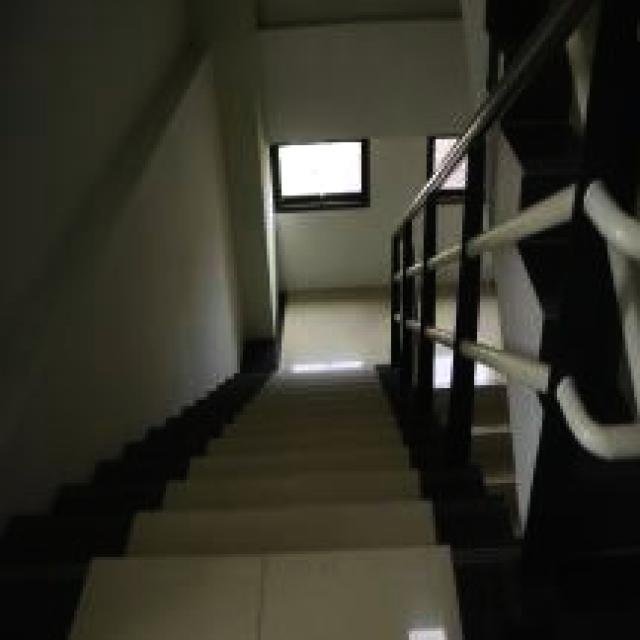downstair: (197, 404, 422, 640)
